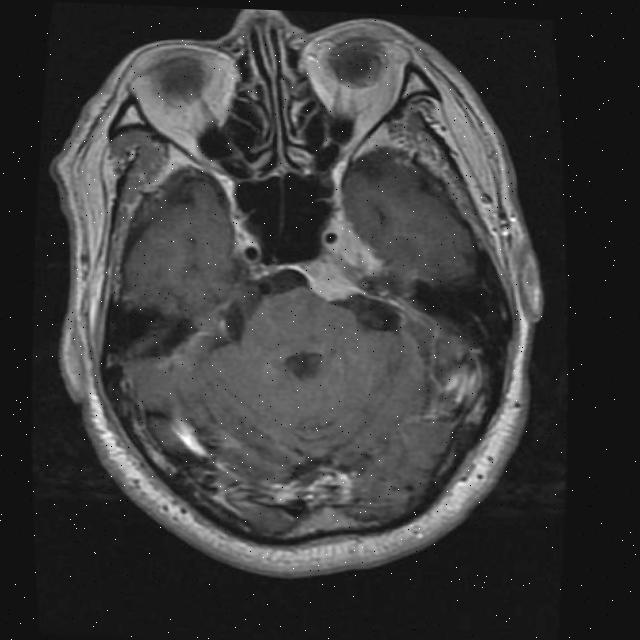Meningioma: (299, 221, 397, 311)
